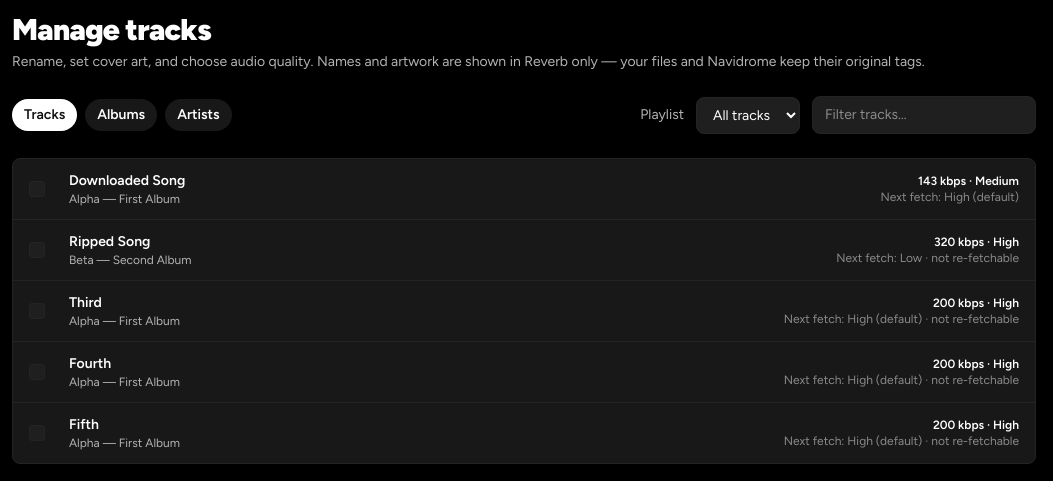
ManageTracks › playlist filter › combines with the text filter
This screenshot has width=1053, height=481.
Select "Road trip" in the dropdown labelled "Playlist" at [748, 115], box [696,96,800,134]
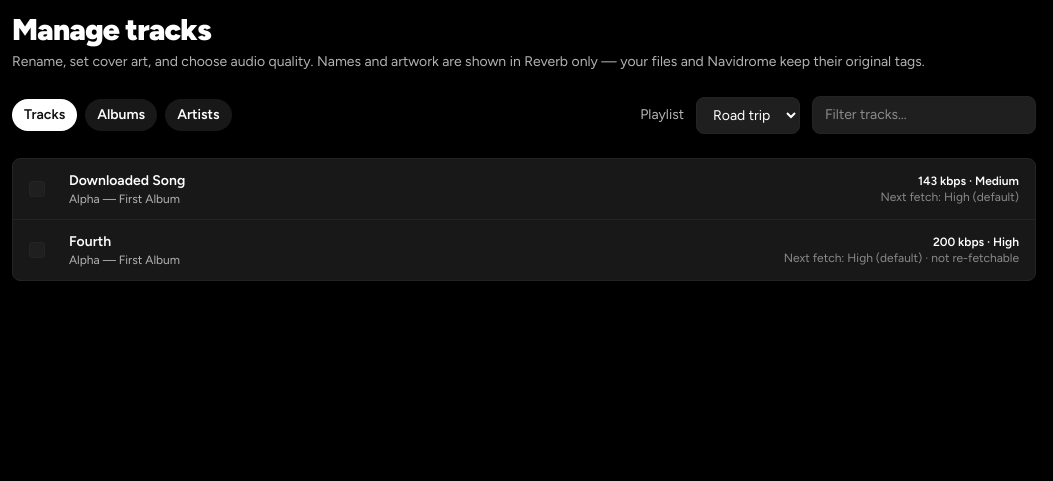
Type "fourth" into the search field labelled "Filter tracks".
click(924, 115); type("fourth")  # box [812,96,1036,134]
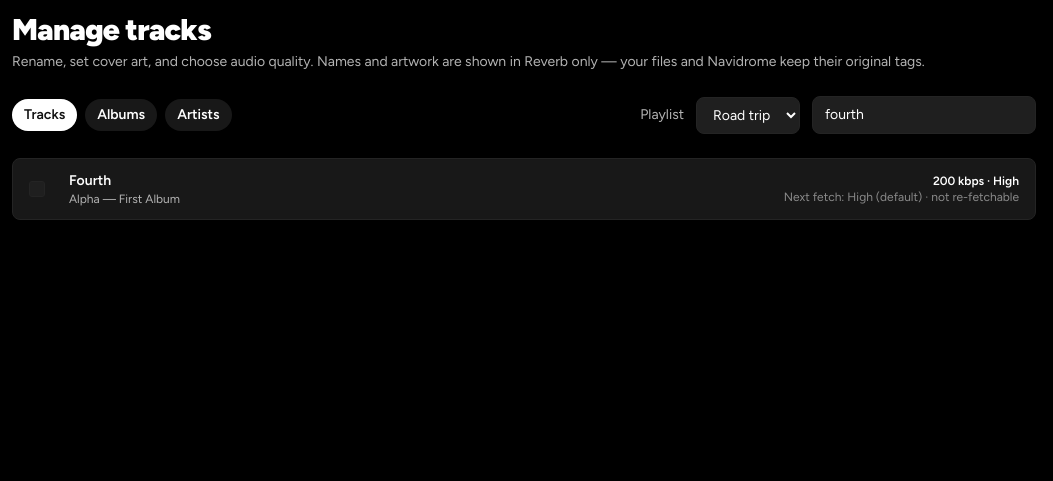
Expected: the text "Fourth" is shown, [69,172,111,189]
Expected: the text "Downloaded Song" is gone
